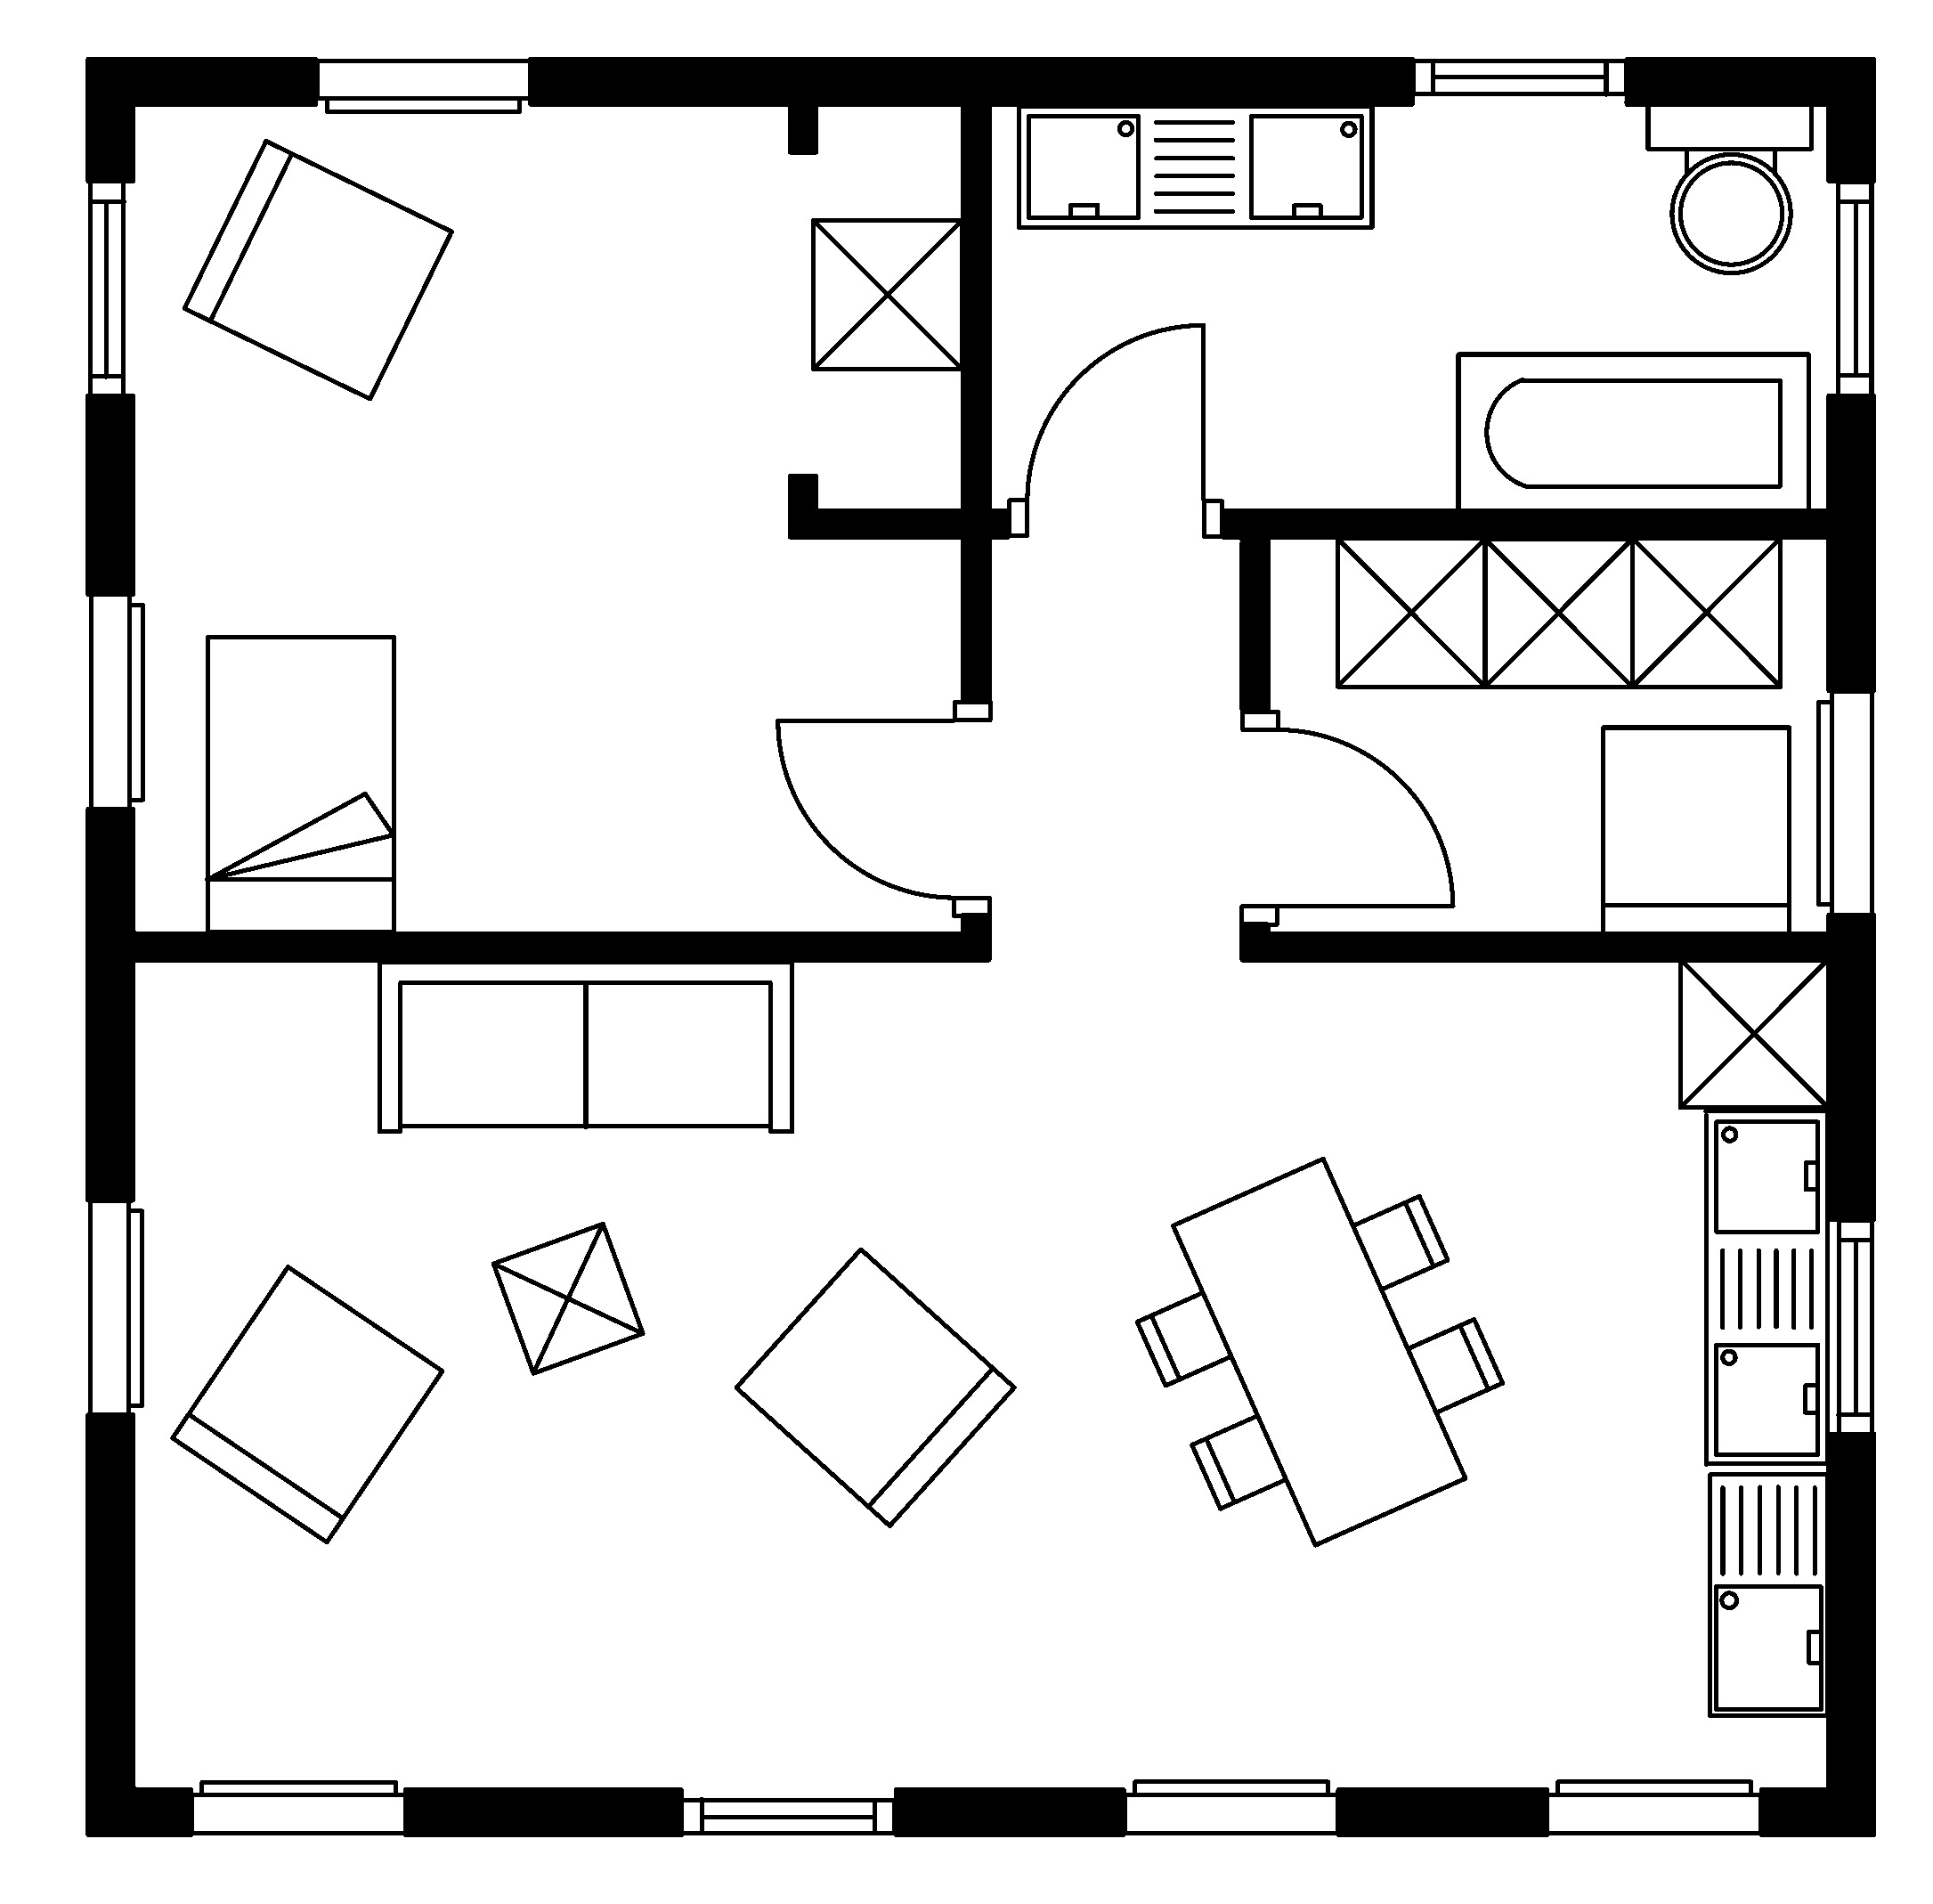basin: (1011, 101, 1382, 239), (1696, 1105, 1828, 1470), (1706, 1466, 1820, 1721)
bed: (199, 629, 401, 935)
door: (1238, 710, 1462, 926), (770, 701, 995, 915), (1009, 317, 1222, 541)
rectangleTable: (1131, 1151, 1509, 1554)
window: (1834, 1203, 1882, 1437), (1410, 54, 1628, 103), (678, 1792, 903, 1839), (1832, 176, 1877, 401), (85, 173, 131, 396)
